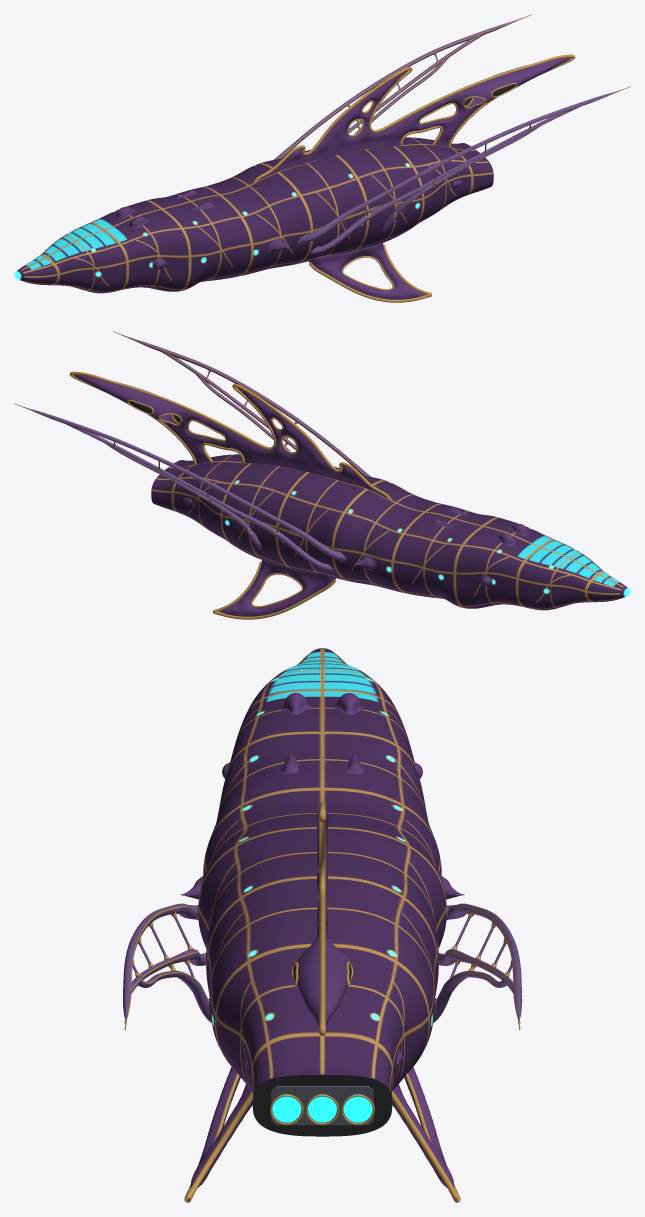
Rendered from model_v43_web.glb.
3 renders of one model, top to bottom at view 1: azimuth 30°, elevation 25°; view 2: azimuth 150°, elevation 25°; view 3: azimuth 270°, elevation 25°, orthographic. The views are drawn at different scales.
Visible parts, largest first — view 1: EXT__EXT_Hull, EXT__EXT_Blade__NC, EXT__EXT_Wing, EXT__EXT_Copper__NC, EXT__EXT_Blade, EXT__EXT_Wing__NC, EXT__EXT_Copper; view 2: EXT__EXT_Hull, EXT__EXT_Blade__NC, EXT__EXT_Copper__NC, EXT__EXT_Wing__NC, EXT__EXT_Wing, EXT__EXT_Copper; view 3: EXT__EXT_Hull, EXT__EXT_Blade__NC, EXT__EXT_Copper__NC, EXT__INT_Dark, EXT__EXT_Wing, EXT__EXT_Wing__NC, EXT__EXT_Blade, EXT__EXT_Copper, INT_S__INT_Shell, DRV__DRV_Glow__NC.
Boxes of the visible parts, x1,y1,x2,y2 form: EXT__EXT_Hull: [14, 137, 493, 293]; EXT__EXT_Blade__NC: [115, 57, 571, 218]; EXT__EXT_Wing: [298, 90, 618, 255]; EXT__EXT_Copper__NC: [253, 14, 575, 183]; EXT__EXT_Blade: [128, 180, 462, 299]; EXT__EXT_Wing__NC: [274, 18, 520, 159]; EXT__EXT_Copper: [309, 86, 630, 302]; EXT__EXT_Hull: [151, 454, 630, 610]; EXT__EXT_Blade__NC: [73, 374, 516, 616]; EXT__EXT_Copper__NC: [14, 371, 391, 619]; EXT__EXT_Wing__NC: [26, 407, 346, 572]; EXT__EXT_Wing: [124, 335, 370, 476]; EXT__EXT_Copper: [113, 331, 365, 475]; EXT__EXT_Hull: [198, 648, 446, 1094]; EXT__EXT_Blade__NC: [296, 693, 464, 1187]; EXT__EXT_Copper__NC: [291, 801, 522, 1202]; EXT__INT_Dark: [252, 1075, 392, 1136]; EXT__EXT_Wing: [122, 903, 211, 1022]; EXT__EXT_Wing__NC: [433, 903, 522, 1022]; EXT__EXT_Blade: [181, 693, 310, 1187]; EXT__EXT_Copper: [123, 906, 253, 1202]; INT_S__INT_Shell: [271, 1086, 373, 1125]; DRV__DRV_Glow__NC: [308, 1094, 372, 1122].
Bounding box in the file's own units: 118 × 40.32 × 35.85.
27 materials, 1 textured.
